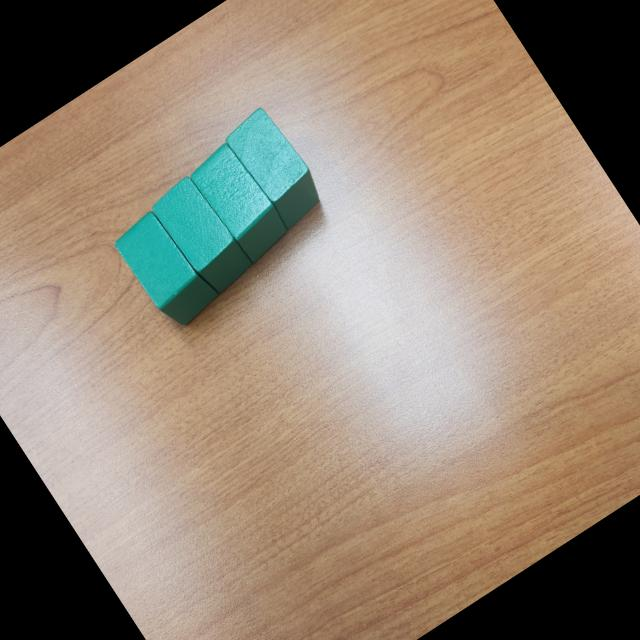green: (108, 203, 222, 333), (146, 171, 258, 301), (183, 137, 294, 267), (220, 101, 330, 232)
